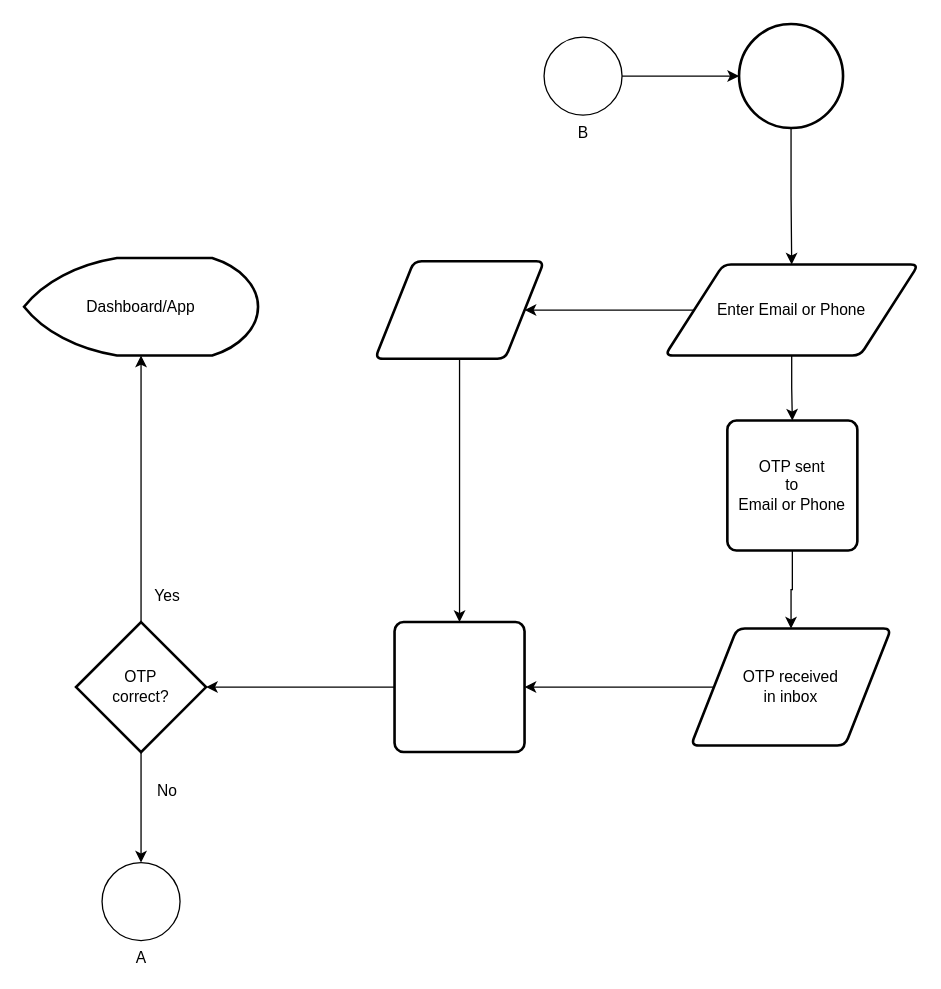
Image size: 941x989. Some labels were removed from this diagram. Here are the shapes that lost their labels. From the top down, the centre of each, then its label:
At [790,75]: "Start Login".
At [459,309]: "Waiting for OTP".
At [459,686]: "Enter OTP".
